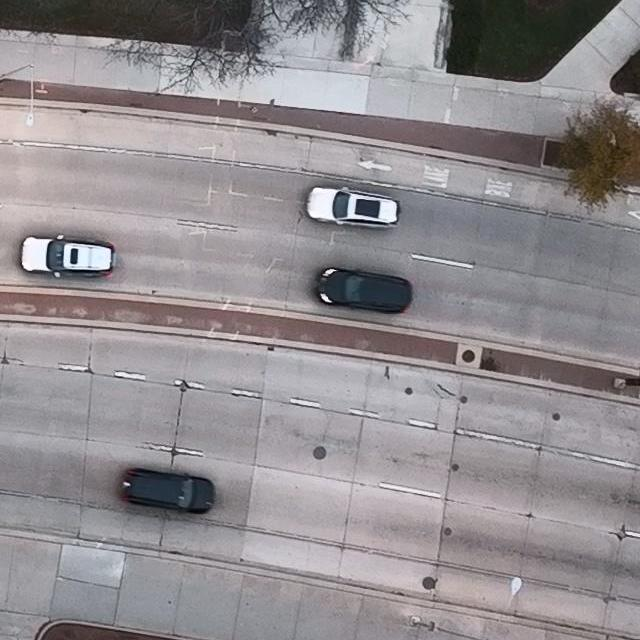car: (317, 267, 414, 312), (120, 469, 215, 514), (19, 235, 115, 279), (306, 186, 400, 229)
